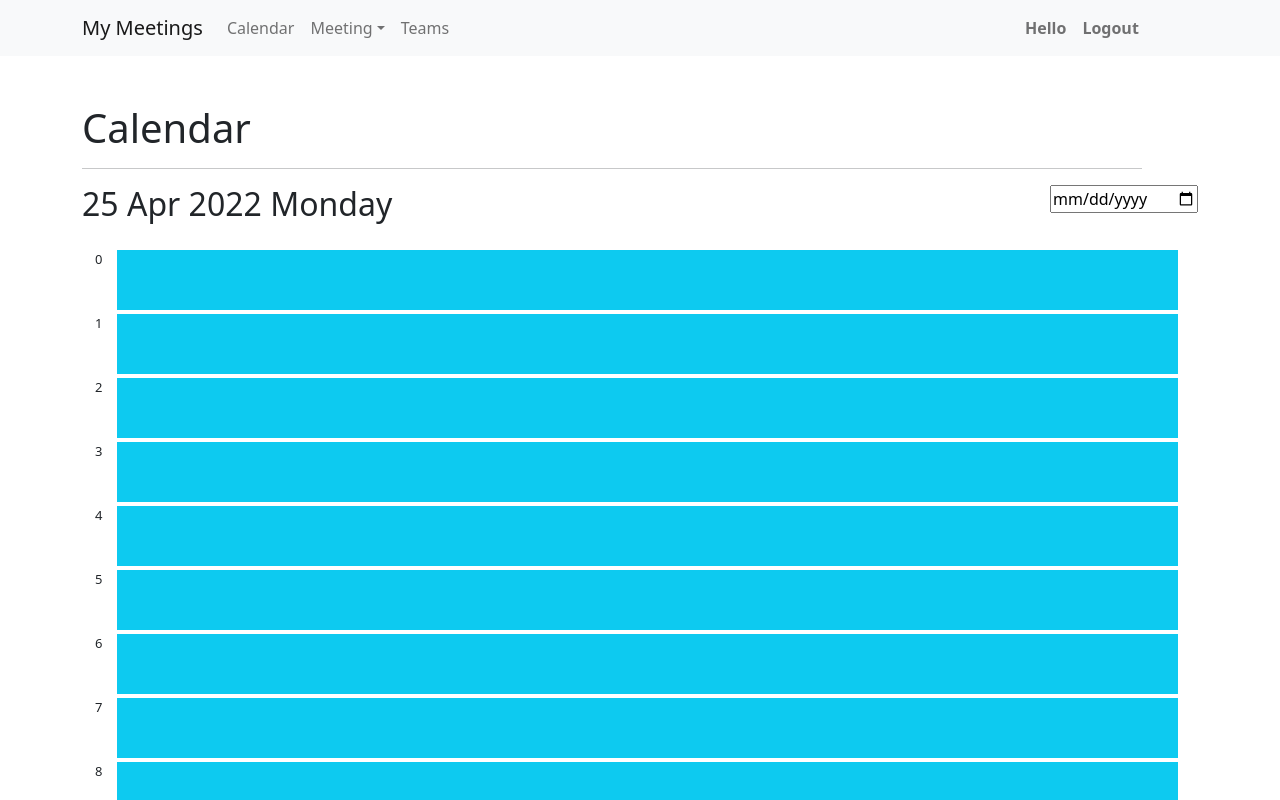
should fetch and load the initial set of meetings from the server
Type "2020-10-28" into the date field named "select date to get meetings". click: (1124, 199)
box: [1050,185,1198,213]
(page scrolled)
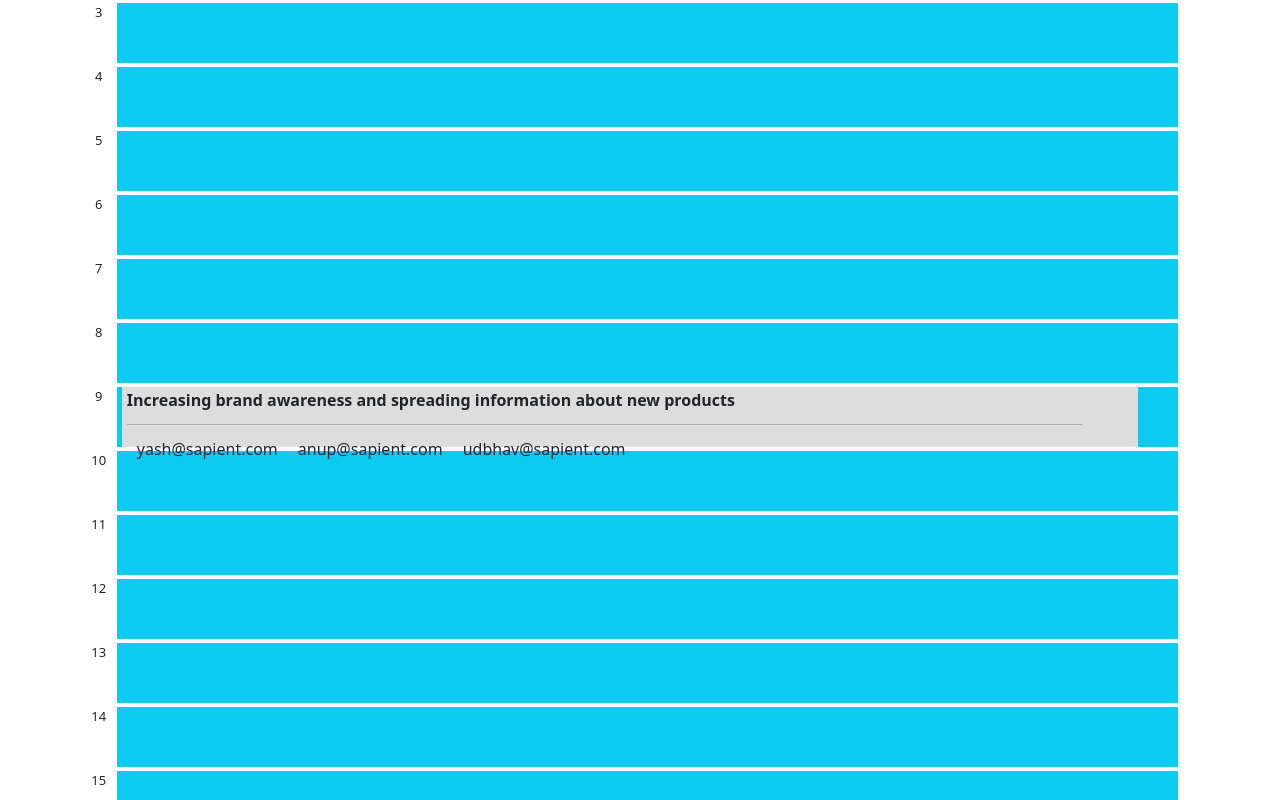
Result: the text "Increasing brand awareness and spreading information about new products" is shown at [127,389,735,411]
